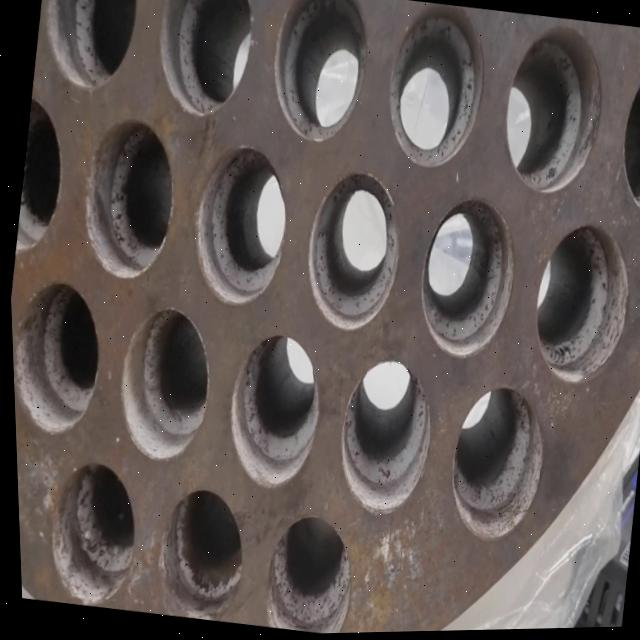Hole: (492, 21, 613, 202), (376, 0, 495, 177), (406, 193, 524, 367), (179, 140, 296, 313), (521, 220, 637, 393), (70, 112, 185, 286), (294, 167, 410, 339), (437, 380, 551, 551), (325, 356, 438, 525), (106, 301, 219, 468), (214, 329, 327, 495), (35, 455, 144, 613), (260, 0, 375, 149), (8, 274, 109, 440), (145, 483, 249, 626), (148, 0, 262, 123), (255, 510, 357, 636), (9, 94, 75, 262), (33, 0, 144, 97), (609, 49, 640, 224)
